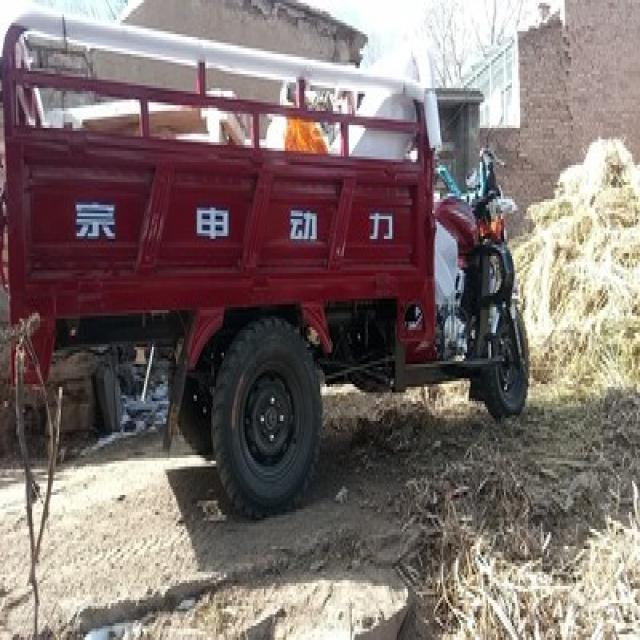tricycle: (0, 0, 530, 518)
